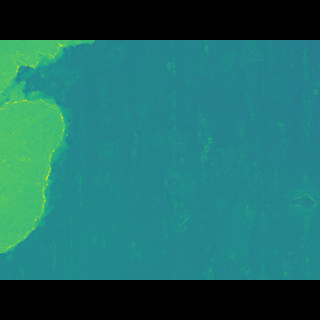Loch: (0, 71, 76, 235)
